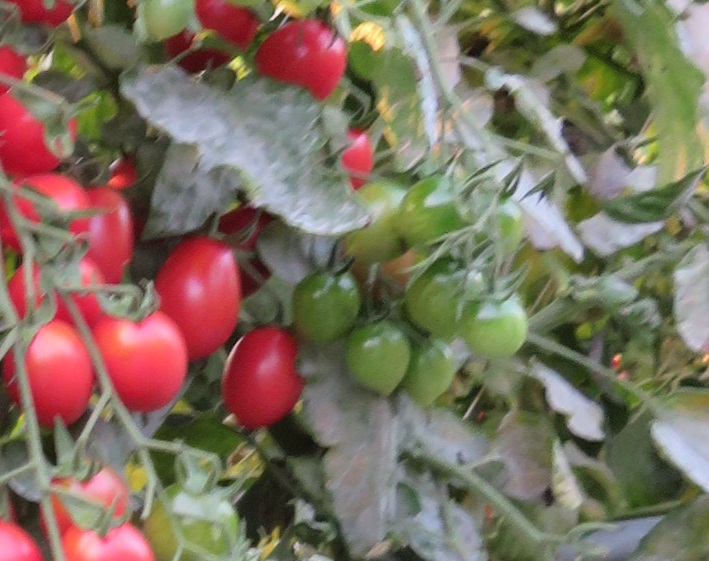green: (145, 486, 240, 560), (290, 264, 359, 345), (339, 177, 403, 263), (399, 166, 458, 251), (351, 315, 410, 396), (464, 298, 527, 361), (407, 273, 471, 334), (411, 337, 460, 408), (485, 196, 523, 252)
red: (90, 311, 190, 414), (156, 238, 241, 358), (4, 321, 94, 427), (222, 323, 299, 429), (253, 24, 348, 97), (1, 88, 77, 174), (12, 259, 109, 322), (83, 182, 133, 277), (44, 462, 127, 519), (58, 518, 153, 561), (196, 1, 257, 53), (341, 129, 375, 192), (14, 1, 76, 29), (1, 519, 43, 559), (1, 43, 29, 90)
